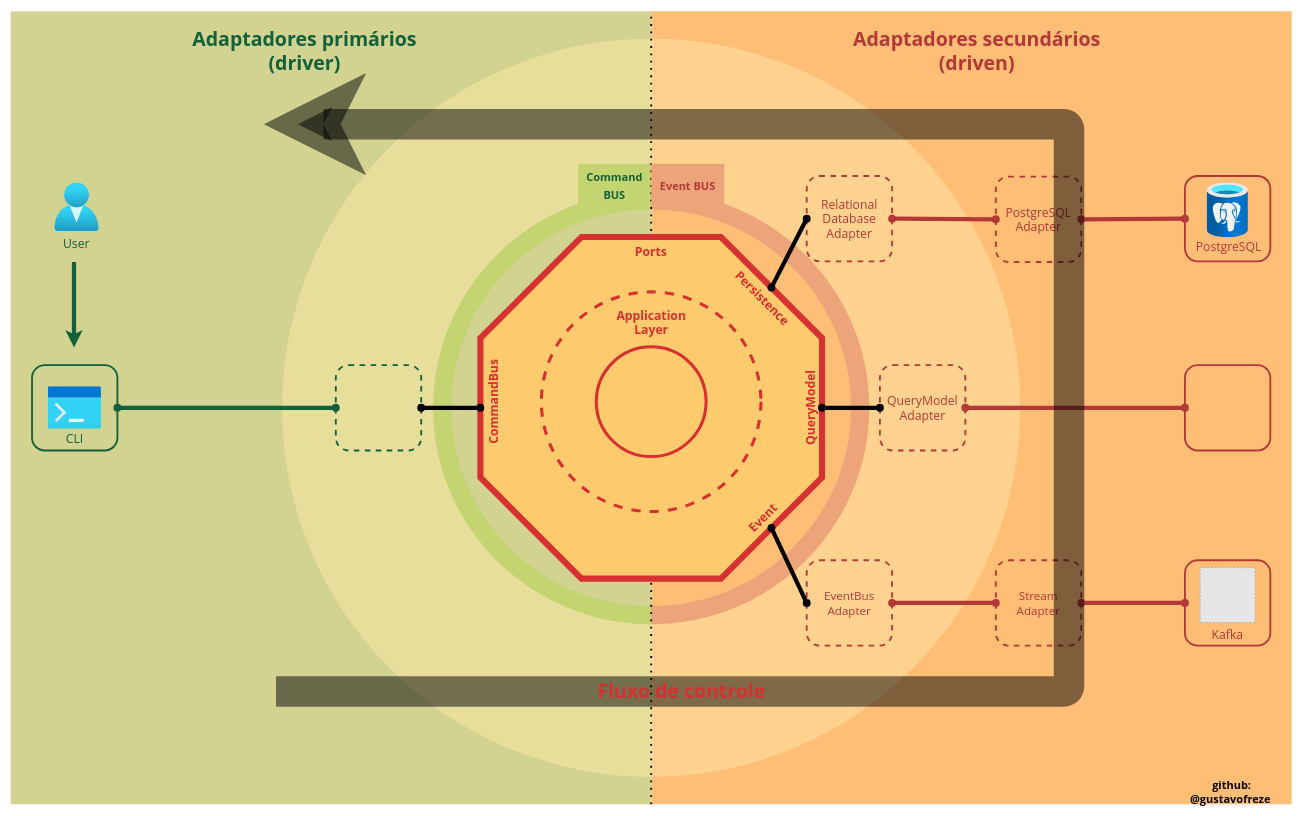
The diagram is 1302 pixels wide and 816 high, and some of its shapes have lost their labels. Grey dashed boxes stand in for pictures. The centre of each missing label's shape, as x and y in pixels:
Console Adapter: (x=378, y=407)
Domain Layer: (x=650, y=401)
QueryModel Engine (ie. PostgresSQL): (x=1227, y=407)
